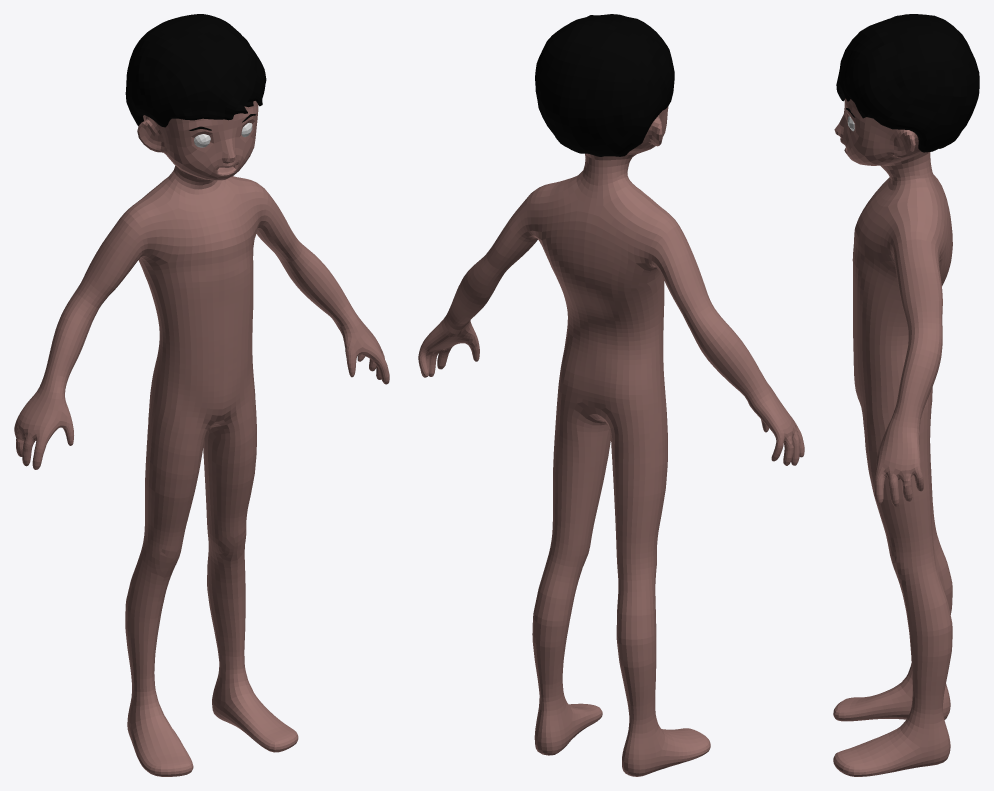
The model's file is UV Char 006.fbx.
3 renders of one model, left to right at view 1: azimuth 30°, elevation 25°; view 2: azimuth 150°, elevation 25°; view 3: azimuth 270°, elevation 25°, orthographic. The views are drawn at different scales.
Visible parts, largest first — view 1: Main_Body_Geo, Hair_Geo; view 2: Main_Body_Geo, Hair_Geo; view 3: Main_Body_Geo, Hair_Geo.
Part boxes in pixels (bbox=[...]): Main_Body_Geo: bbox=[14, 101, 389, 776]; Hair_Geo: bbox=[125, 14, 266, 127]; Main_Body_Geo: bbox=[418, 106, 804, 776]; Hair_Geo: bbox=[535, 14, 674, 156]; Main_Body_Geo: bbox=[833, 98, 952, 776]; Hair_Geo: bbox=[836, 14, 979, 152].
Size of the model in its own units: 10.11 by 19.05 by 3.51.
